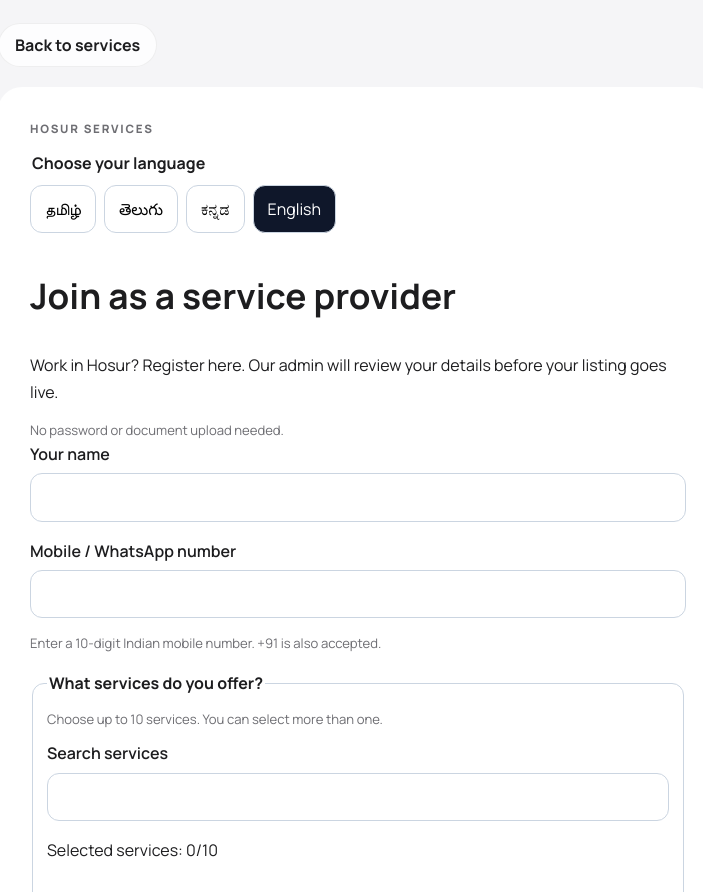
provider registration › submits a pending application in en without caching applicant details
Type "Test provider" into the field labelled "Your name".
click(358, 497); type("Test provider")  # box [30, 473, 686, 522]
Type "9876543210" into the field labelled "Mobile / WhatsApp number".
click(358, 594); type("9876543210")  # box [30, 570, 686, 618]
(page scrolled)
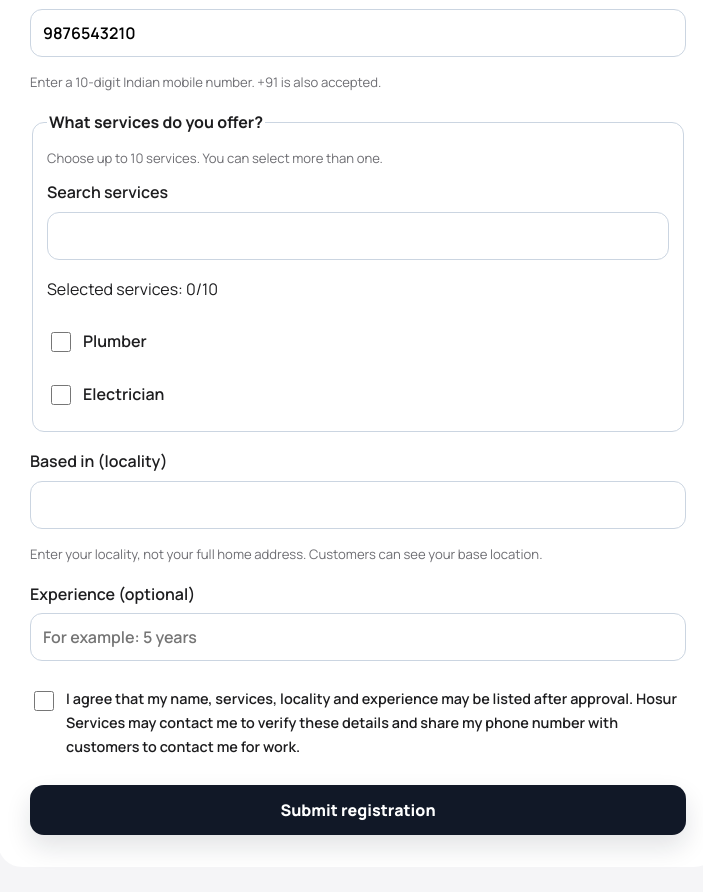
Type "Test locality" into the field labelled "Based in (locality)".
click(358, 505); type("Test locality")  # box [30, 480, 686, 529]
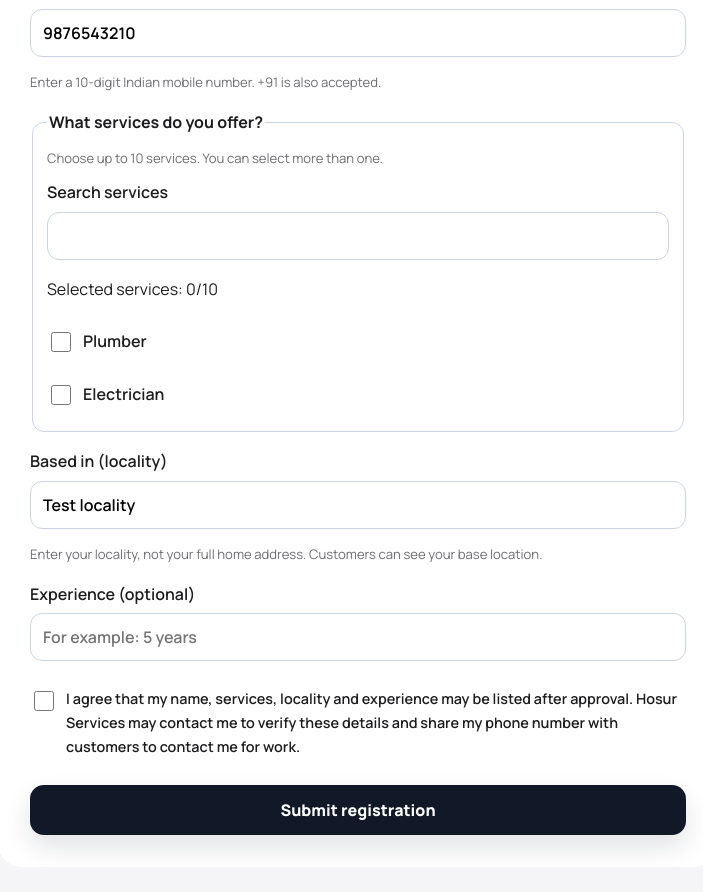
Click the checkbox labelled "Plumber".
click(61, 342)  # box [51, 332, 71, 352]
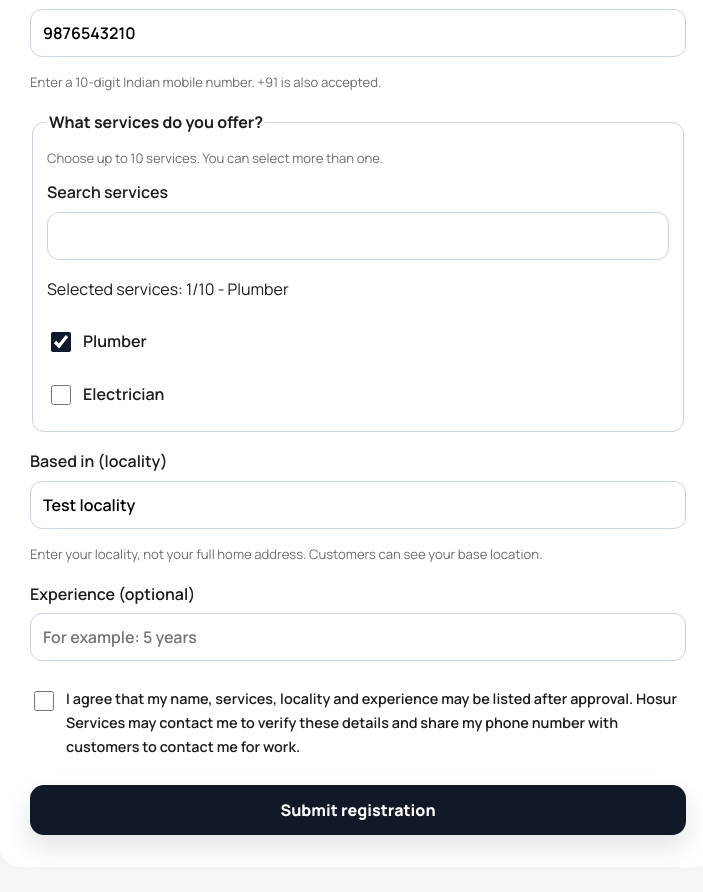
Click the checkbox named "I agree that my name, services, locality and experience may be listed after approval. Hosur Services may contact me to v".
click(44, 701)  # box [34, 691, 54, 711]
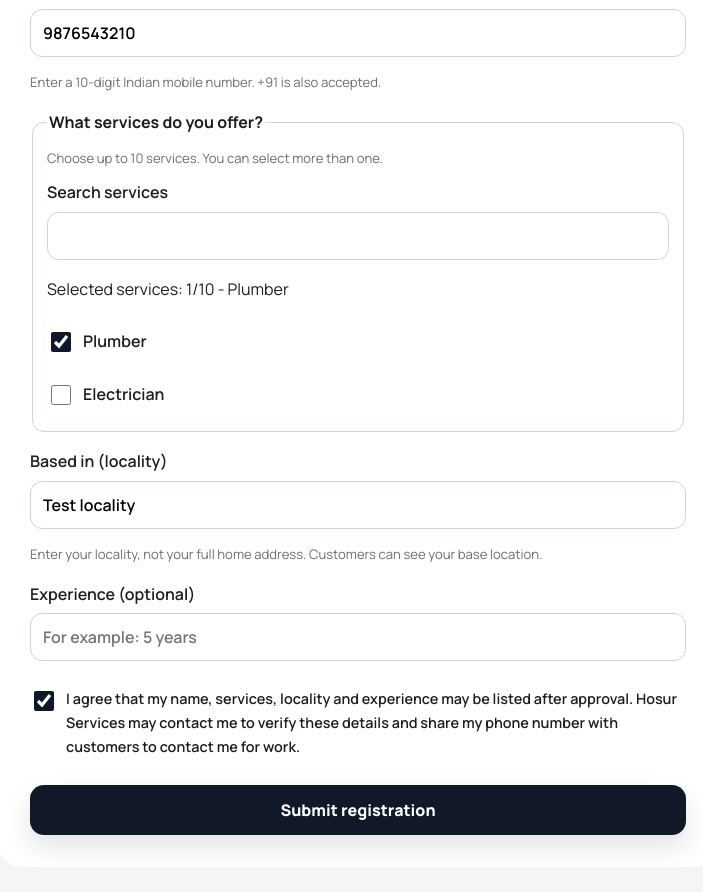
Click the checkbox labelled "Electrician".
click(61, 395)  # box [51, 385, 71, 405]
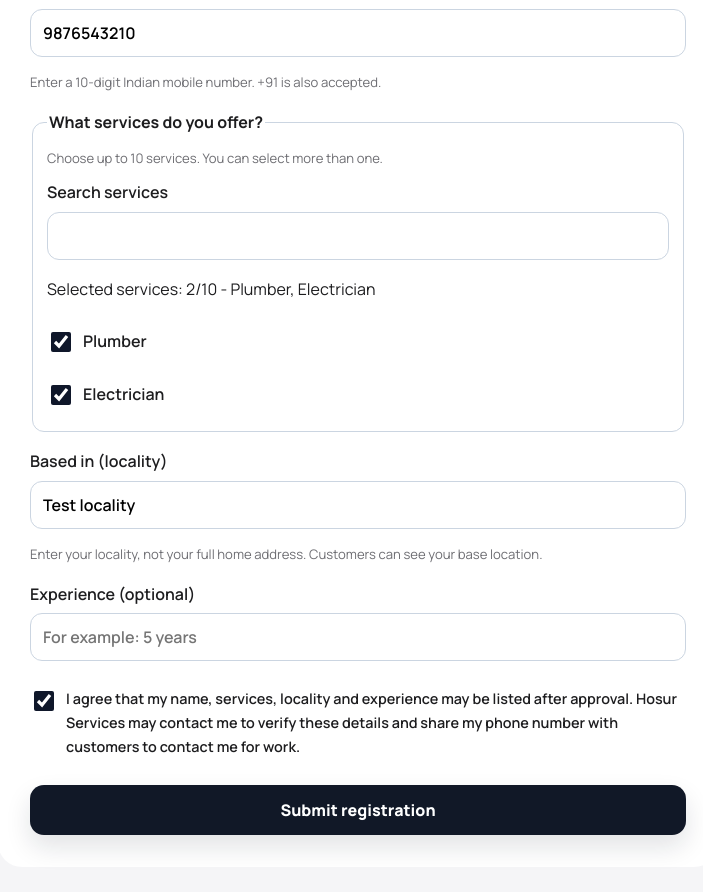
Click the button "Submit registration".
click(358, 810)  # box [30, 785, 686, 835]
(page scrolled)
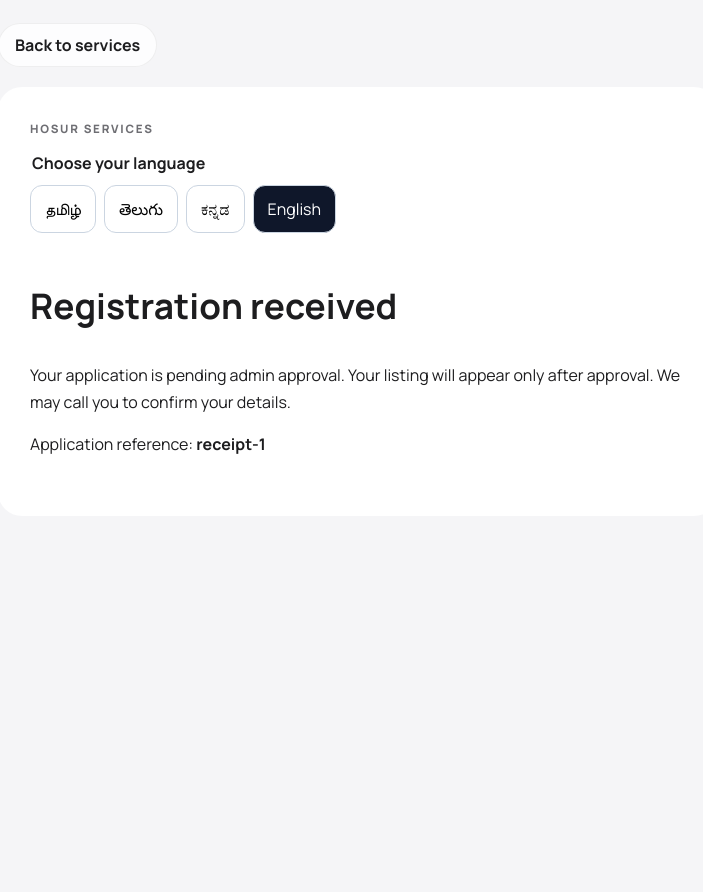
Check: the heading "Registration received" is shown, box [30, 281, 397, 330]
Check: the text "Your application is pending admin approval. Your listing will appear only after approval. We may call you to confirm you" is shown, box [30, 364, 680, 413]
